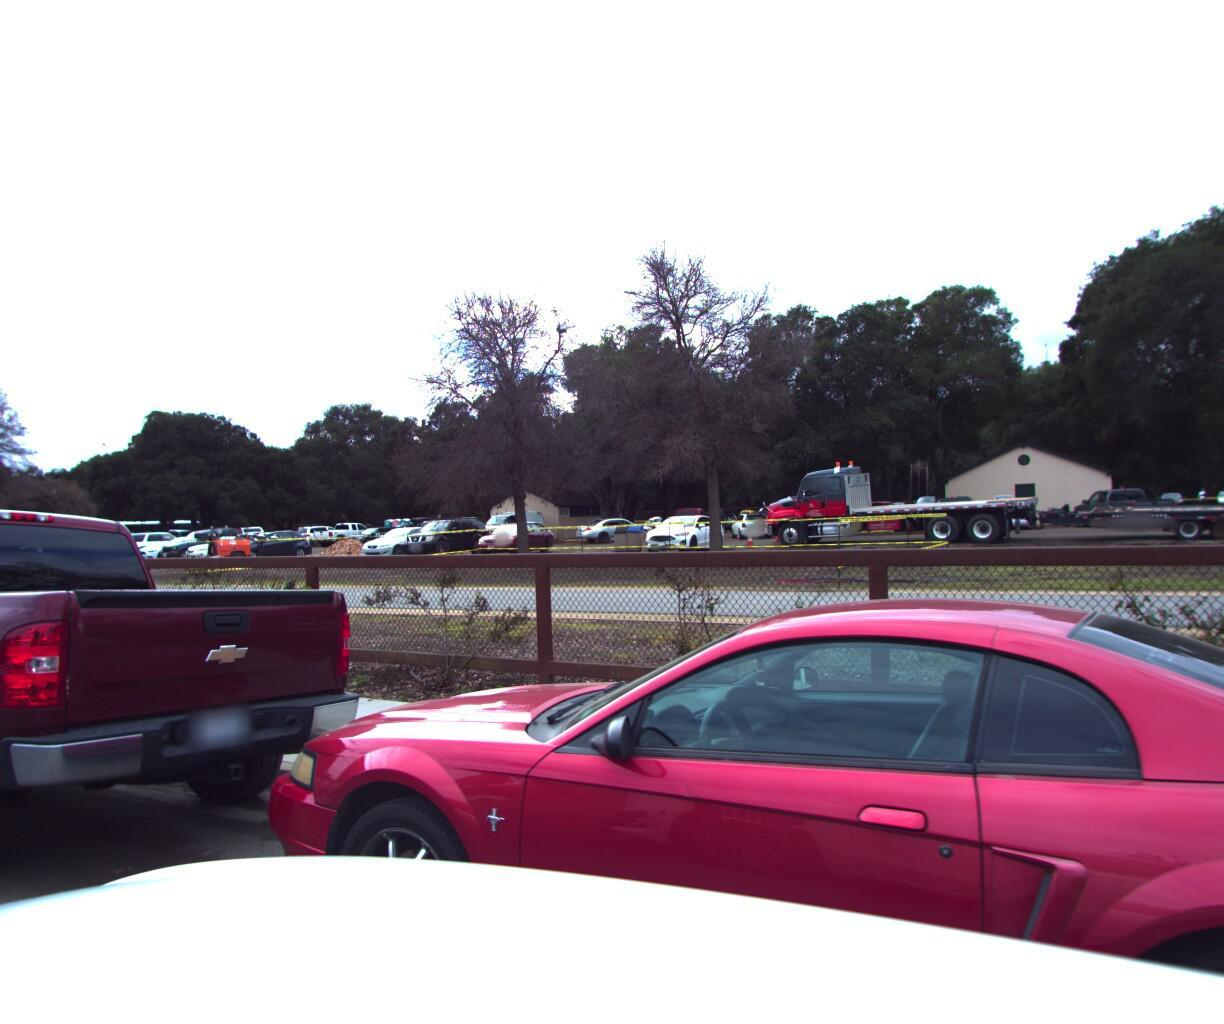car: (173, 567, 1224, 1024), (0, 489, 401, 980)
